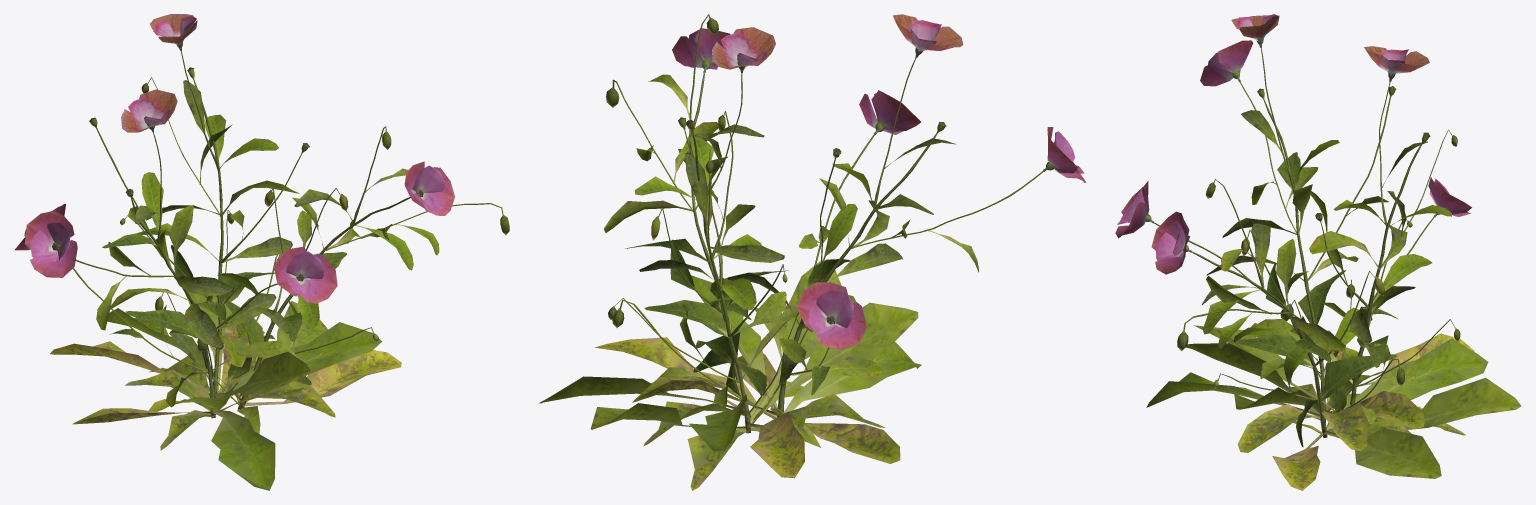
The model's file is Poppy_bush_short_peach.glb.
3 renders of one model, left to right at view 1: azimuth 30°, elevation 25°; view 2: azimuth 150°, elevation 25°; view 3: azimuth 270°, elevation 25°, orthographic. The views are drawn at different scales.
Visible parts, largest first — view 1: bush jr; view 2: bush jr; view 3: bush jr.
Boxes of the visible parts, bbox=[...] form: bush jr: bbox=[14, 14, 509, 490]; bush jr: bbox=[539, 14, 1086, 490]; bush jr: bbox=[1115, 14, 1521, 490].
Size of the model in its own units: 4.09 by 3.29 by 3.16.
1 material, 1 textured.
